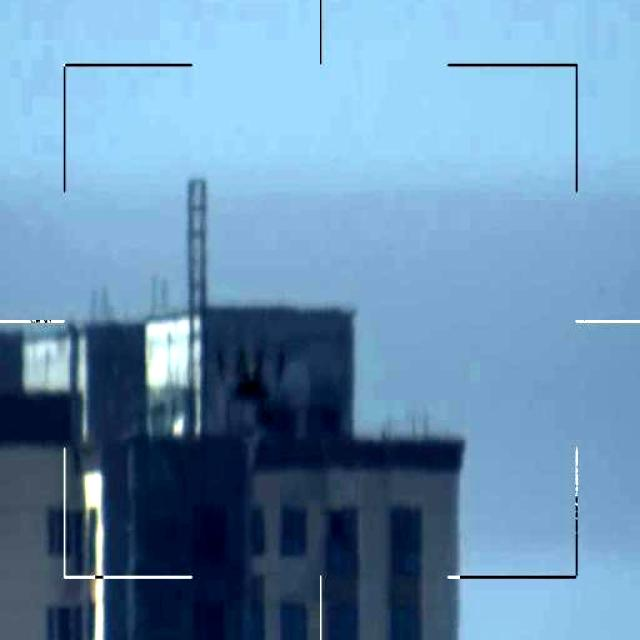bird: (219, 348, 295, 424)
